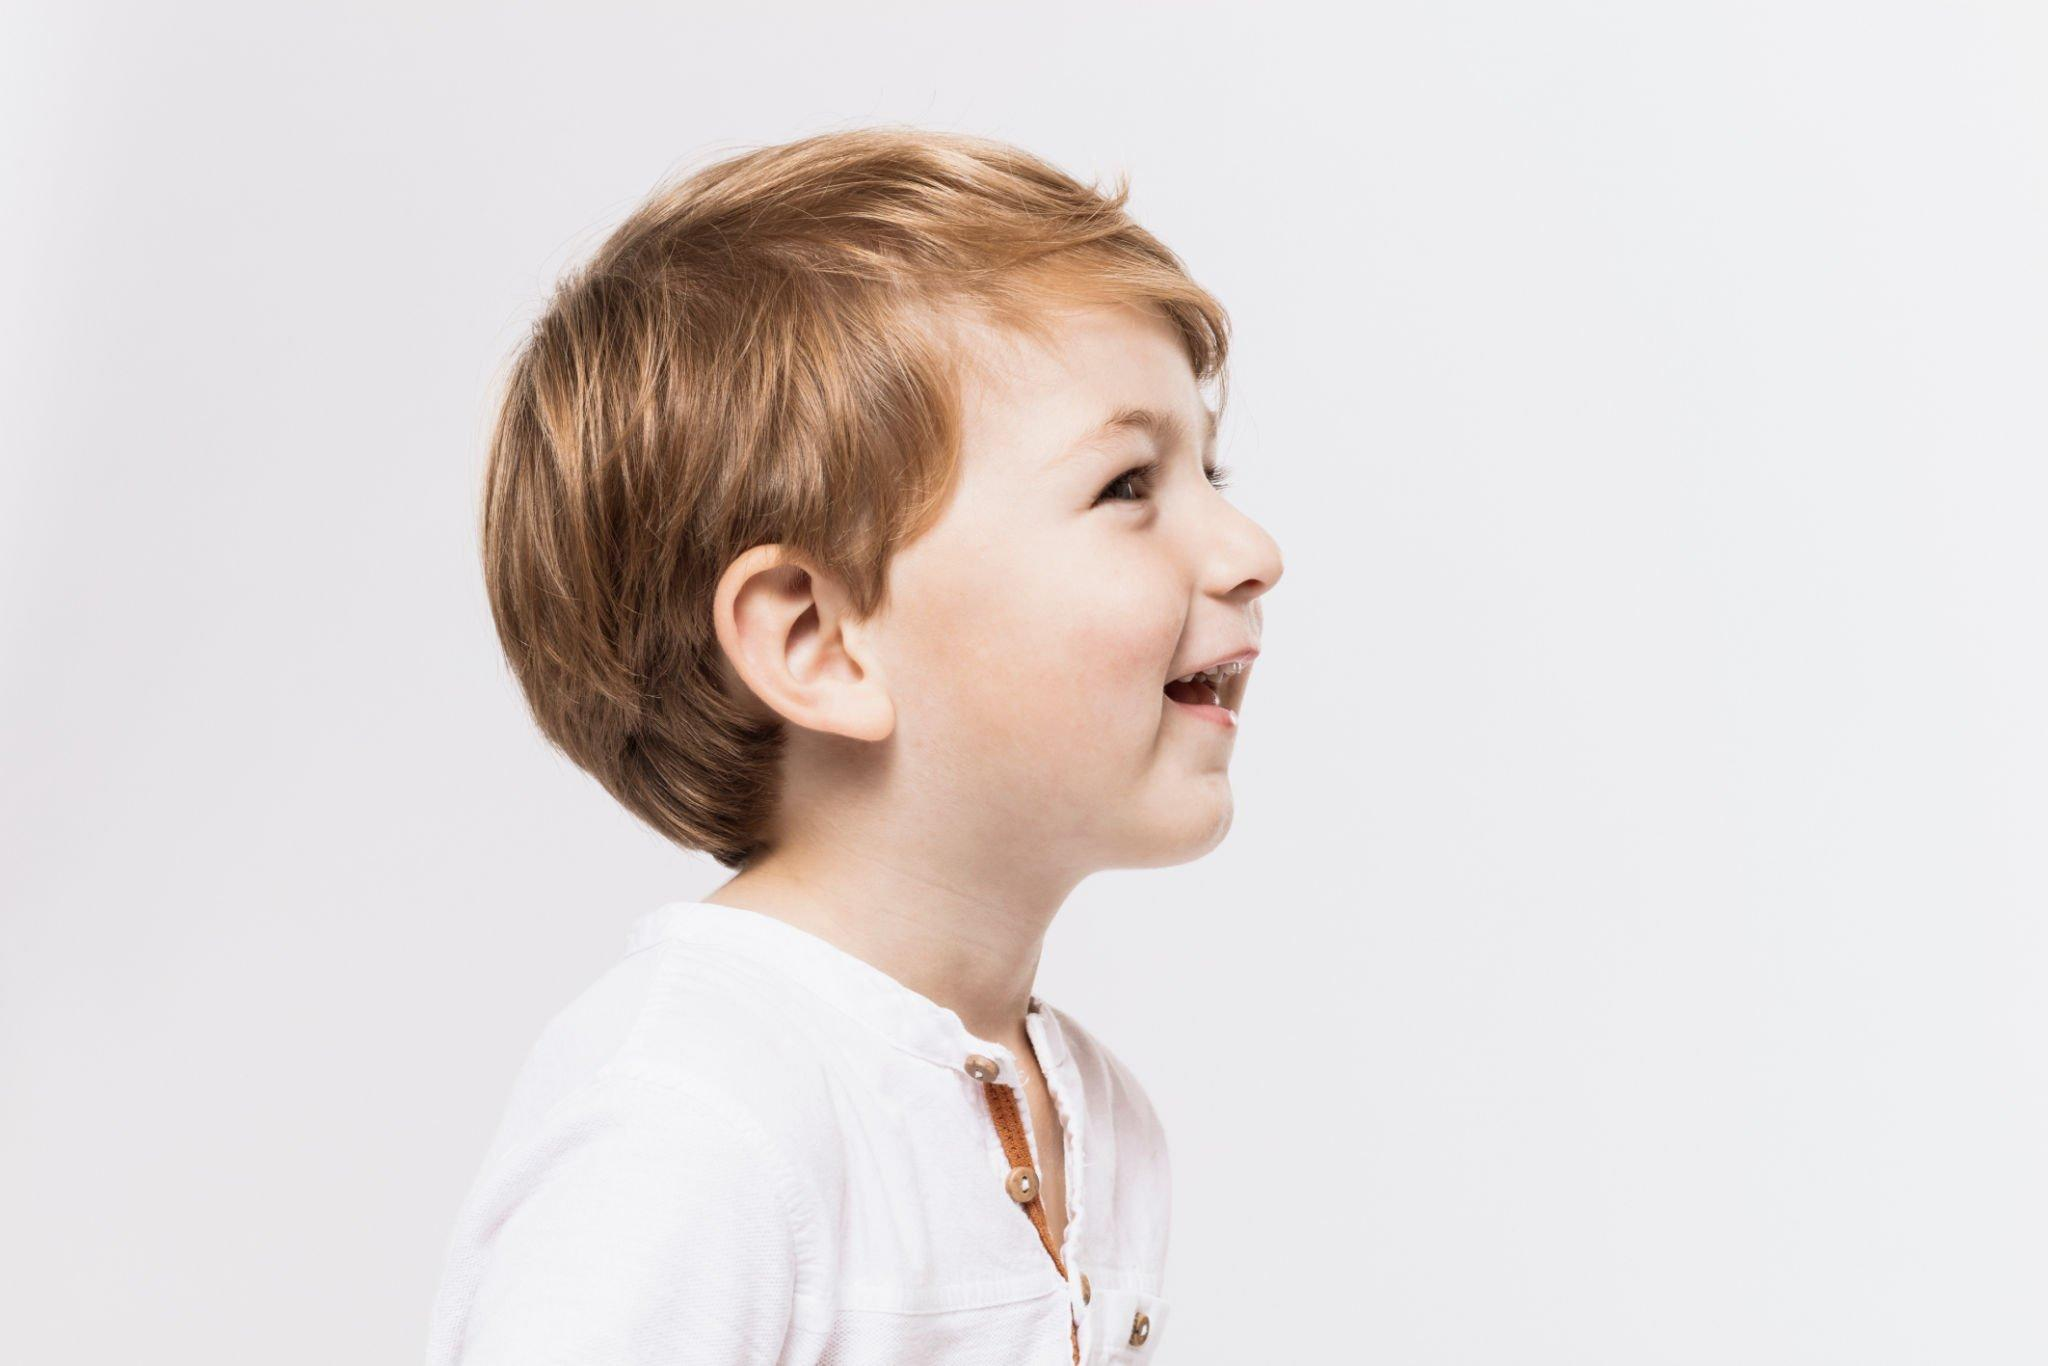Healthy: (782, 151, 1320, 922)
